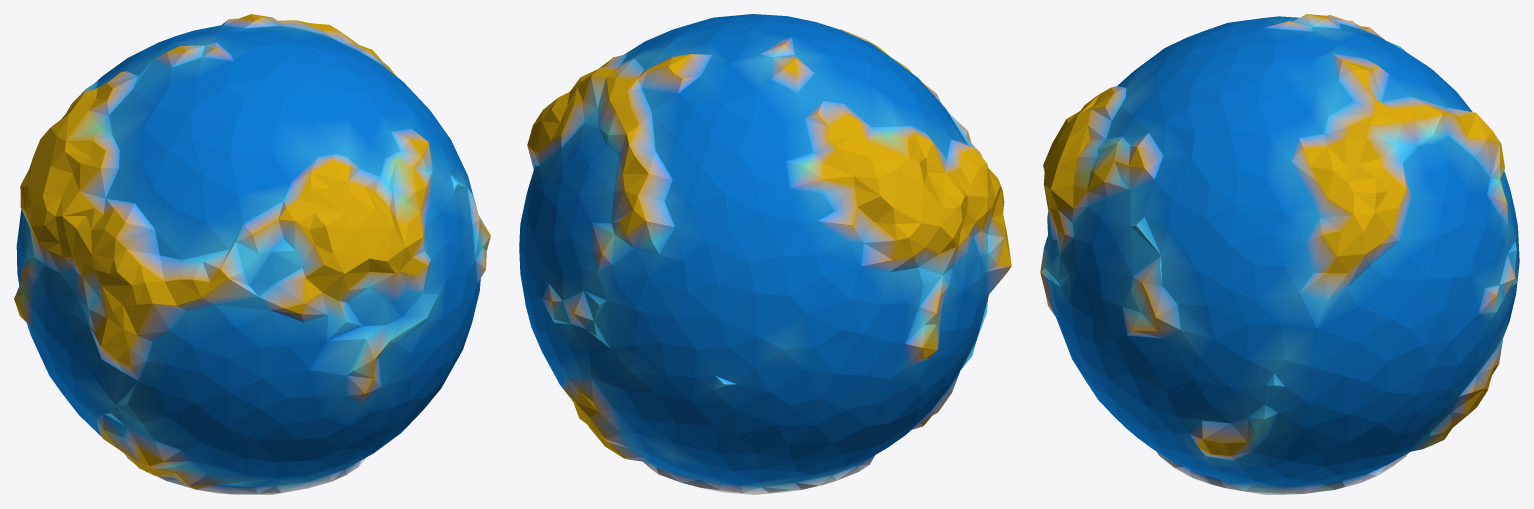
File: planet_32.fbx
3 views of the same model, side by side, from view 1: azimuth 30°, elevation 25°; view 2: azimuth 150°, elevation 25°; view 3: azimuth 270°, elevation 25° (orthographic).
Visible parts, largest first — view 1: file1; view 2: file1; view 3: file1.
Boxes of the visible parts, x1=… form: file1: x1=14, y1=14, x2=490, y2=494; file1: x1=519, y1=14, x2=1011, y2=494; file1: x1=1040, y1=14, x2=1519, y2=494.
Bounding box in the file's own units: 2.03 × 2.04 × 2.03.
